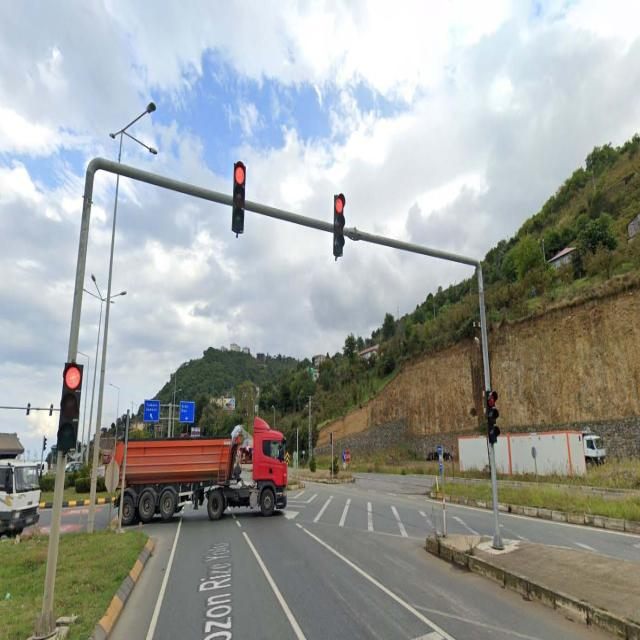kirmizi: (62, 363, 79, 447), (234, 160, 245, 230), (333, 194, 344, 257), (487, 389, 499, 444)
